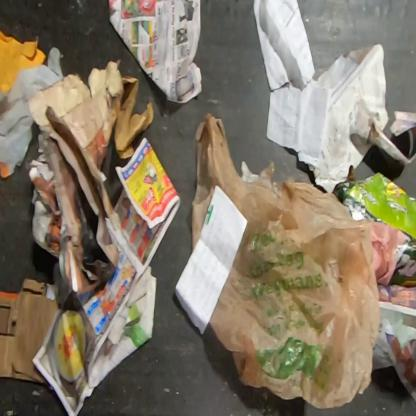cardboard: (26, 58, 154, 268), (307, 42, 415, 194), (332, 166, 415, 289), (88, 264, 158, 390), (0, 278, 58, 386), (0, 29, 47, 94)
soft_plastic: (190, 110, 382, 410), (0, 45, 65, 169)
